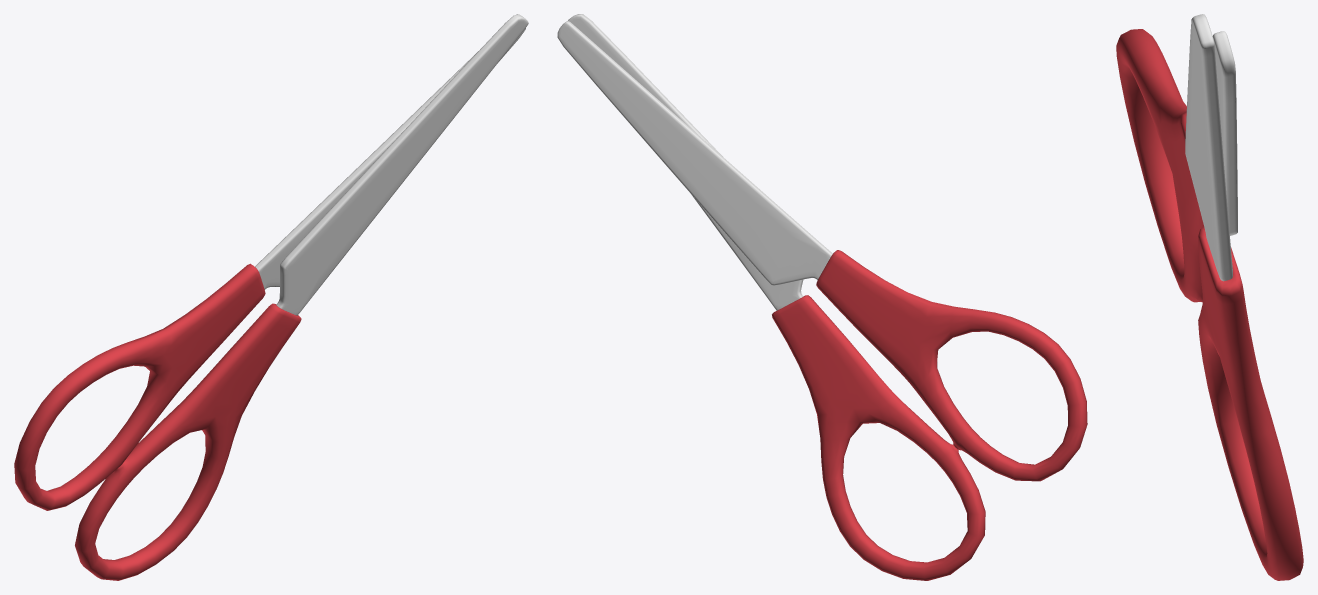
3 renders of one model, left to right at view 1: azimuth 30°, elevation 25°; view 2: azimuth 150°, elevation 25°; view 3: azimuth 270°, elevation 25°, orthographic. The views are drawn at different scales.
Visible parts, largest first — view 1: scissors.013; view 2: scissors.013; view 3: scissors.013.
Boxes of the visible parts, x1=… form: scissors.013: x1=14, y1=14, x2=528, y2=580; scissors.013: x1=557, y1=14, x2=1087, y2=580; scissors.013: x1=1116, y1=14, x2=1303, y2=580.
Size of the model in its own units: 1.05 by 0.9164 by 0.1793.
